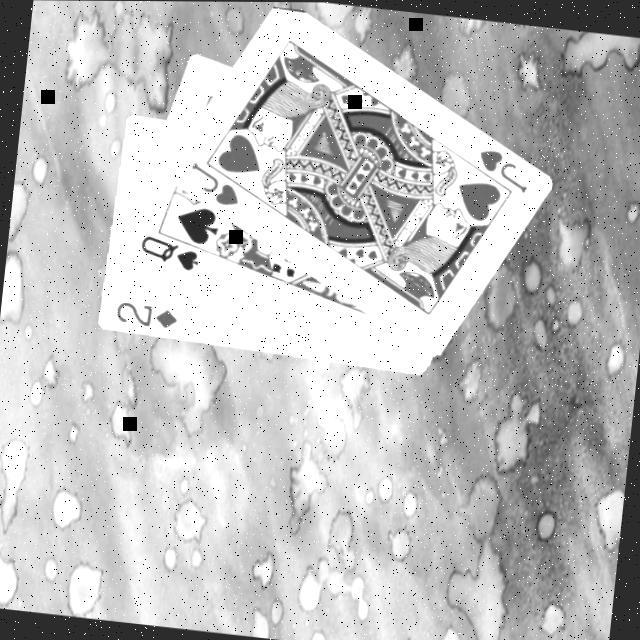2D: (111, 299, 182, 334)
JH: (183, 158, 246, 211), (471, 144, 534, 197)
QS: (134, 231, 205, 276)
